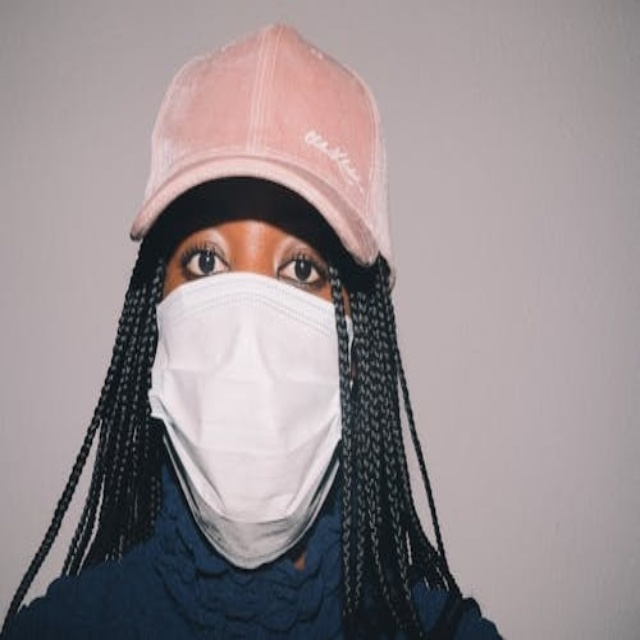Mascara: (148, 269, 352, 566)
Sin_gafas: (173, 204, 324, 298)
